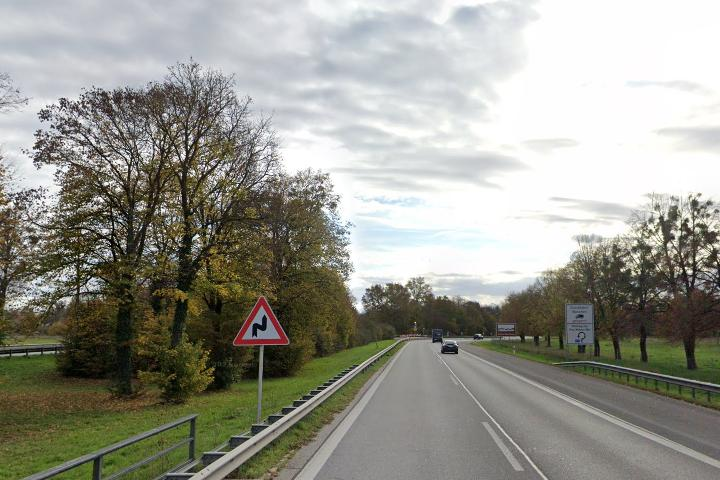traffic_sign: (231, 295, 290, 345)
vehicle: (440, 337, 460, 353)
